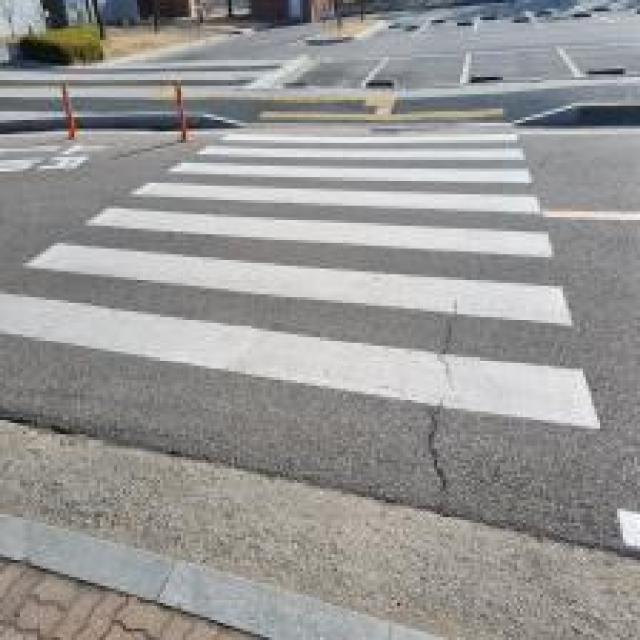walk-crossing: (36, 116, 570, 427)
